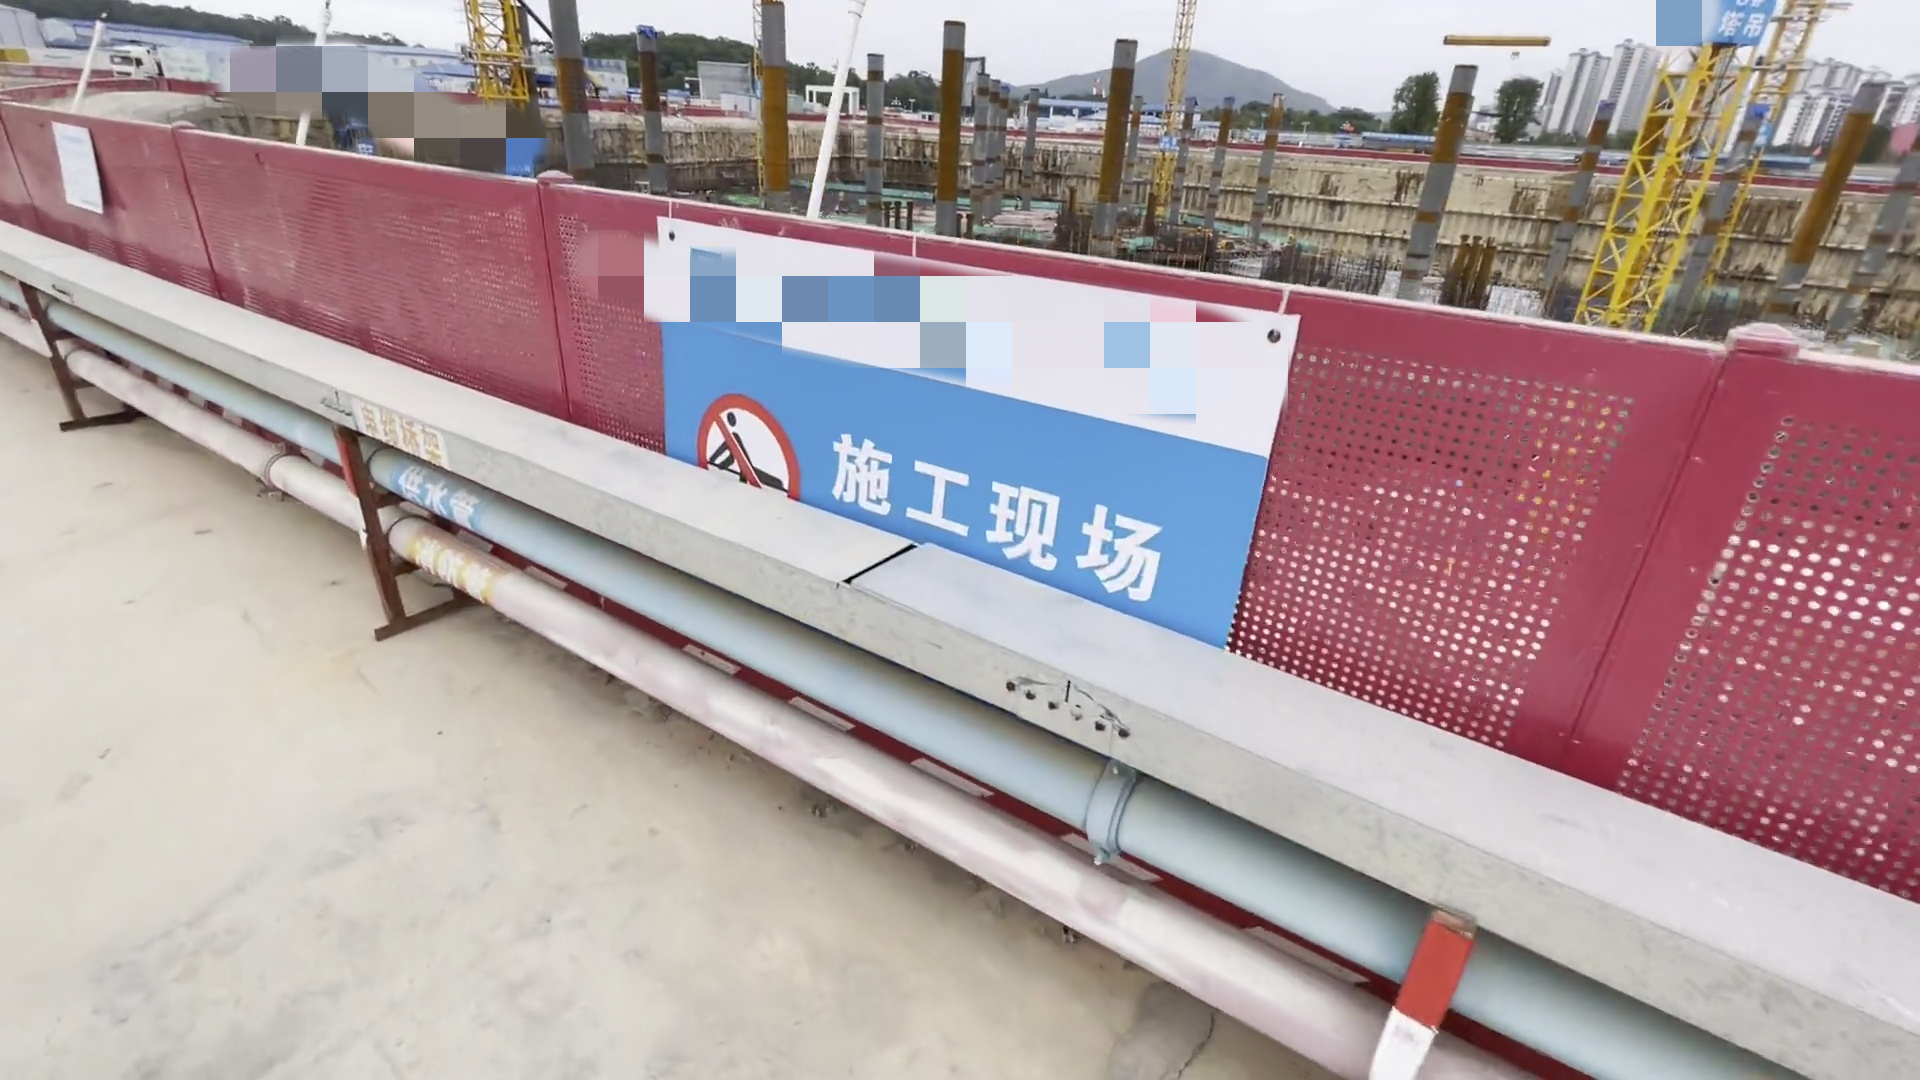fence: (1, 55, 1858, 874)
slogan: (662, 218, 1249, 609)
